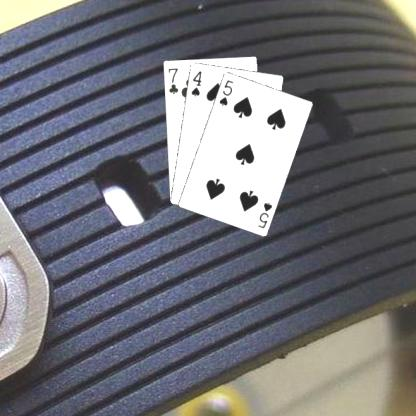4S: (188, 68, 203, 97)
5S: (216, 76, 235, 107), (255, 199, 273, 230)
7C: (165, 65, 180, 95)
